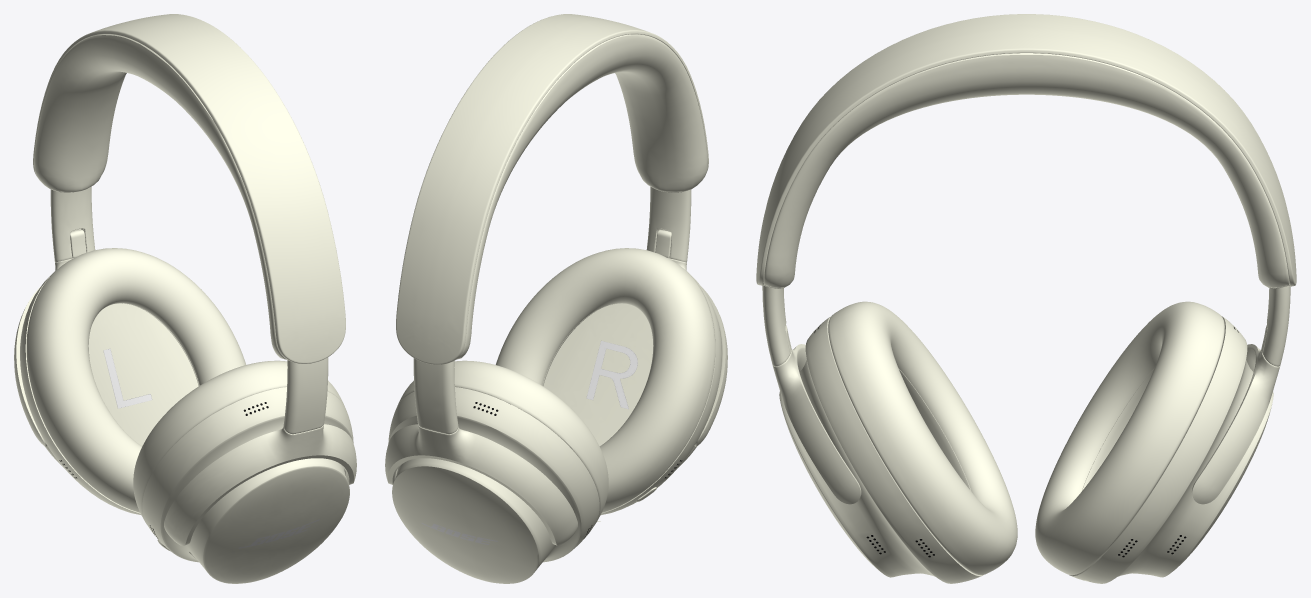
Rendered from headphones origin change.glb.
The picture shows the model from 3 angles, left to right: view 1: azimuth 30°, elevation 25°; view 2: azimuth 150°, elevation 25°; view 3: azimuth 270°, elevation 25°; orthographic projection. The views are drawn at different scales.
Visible parts, largest first — view 1: L_Earcup_Remesh; view 2: L_Earcup_Remesh; view 3: L_Earcup_Remesh.
Part boxes in pixels (<box>): L_Earcup_Remesh: <box>14,14,356,583</box>; L_Earcup_Remesh: <box>385,14,727,583</box>; L_Earcup_Remesh: <box>756,14,1296,583</box>.
Bounding box in the file's own units: 0.0809 × 0.1934 × 0.1759.
13 materials, 3 textured.
